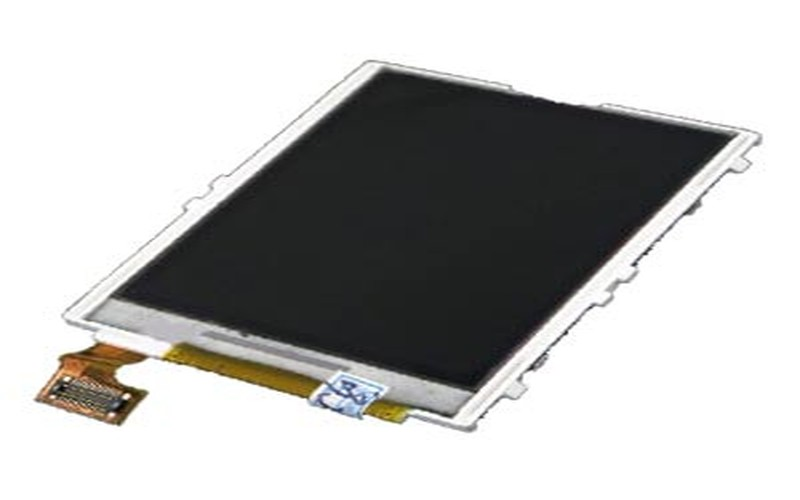LCD: (71, 41, 751, 425)
